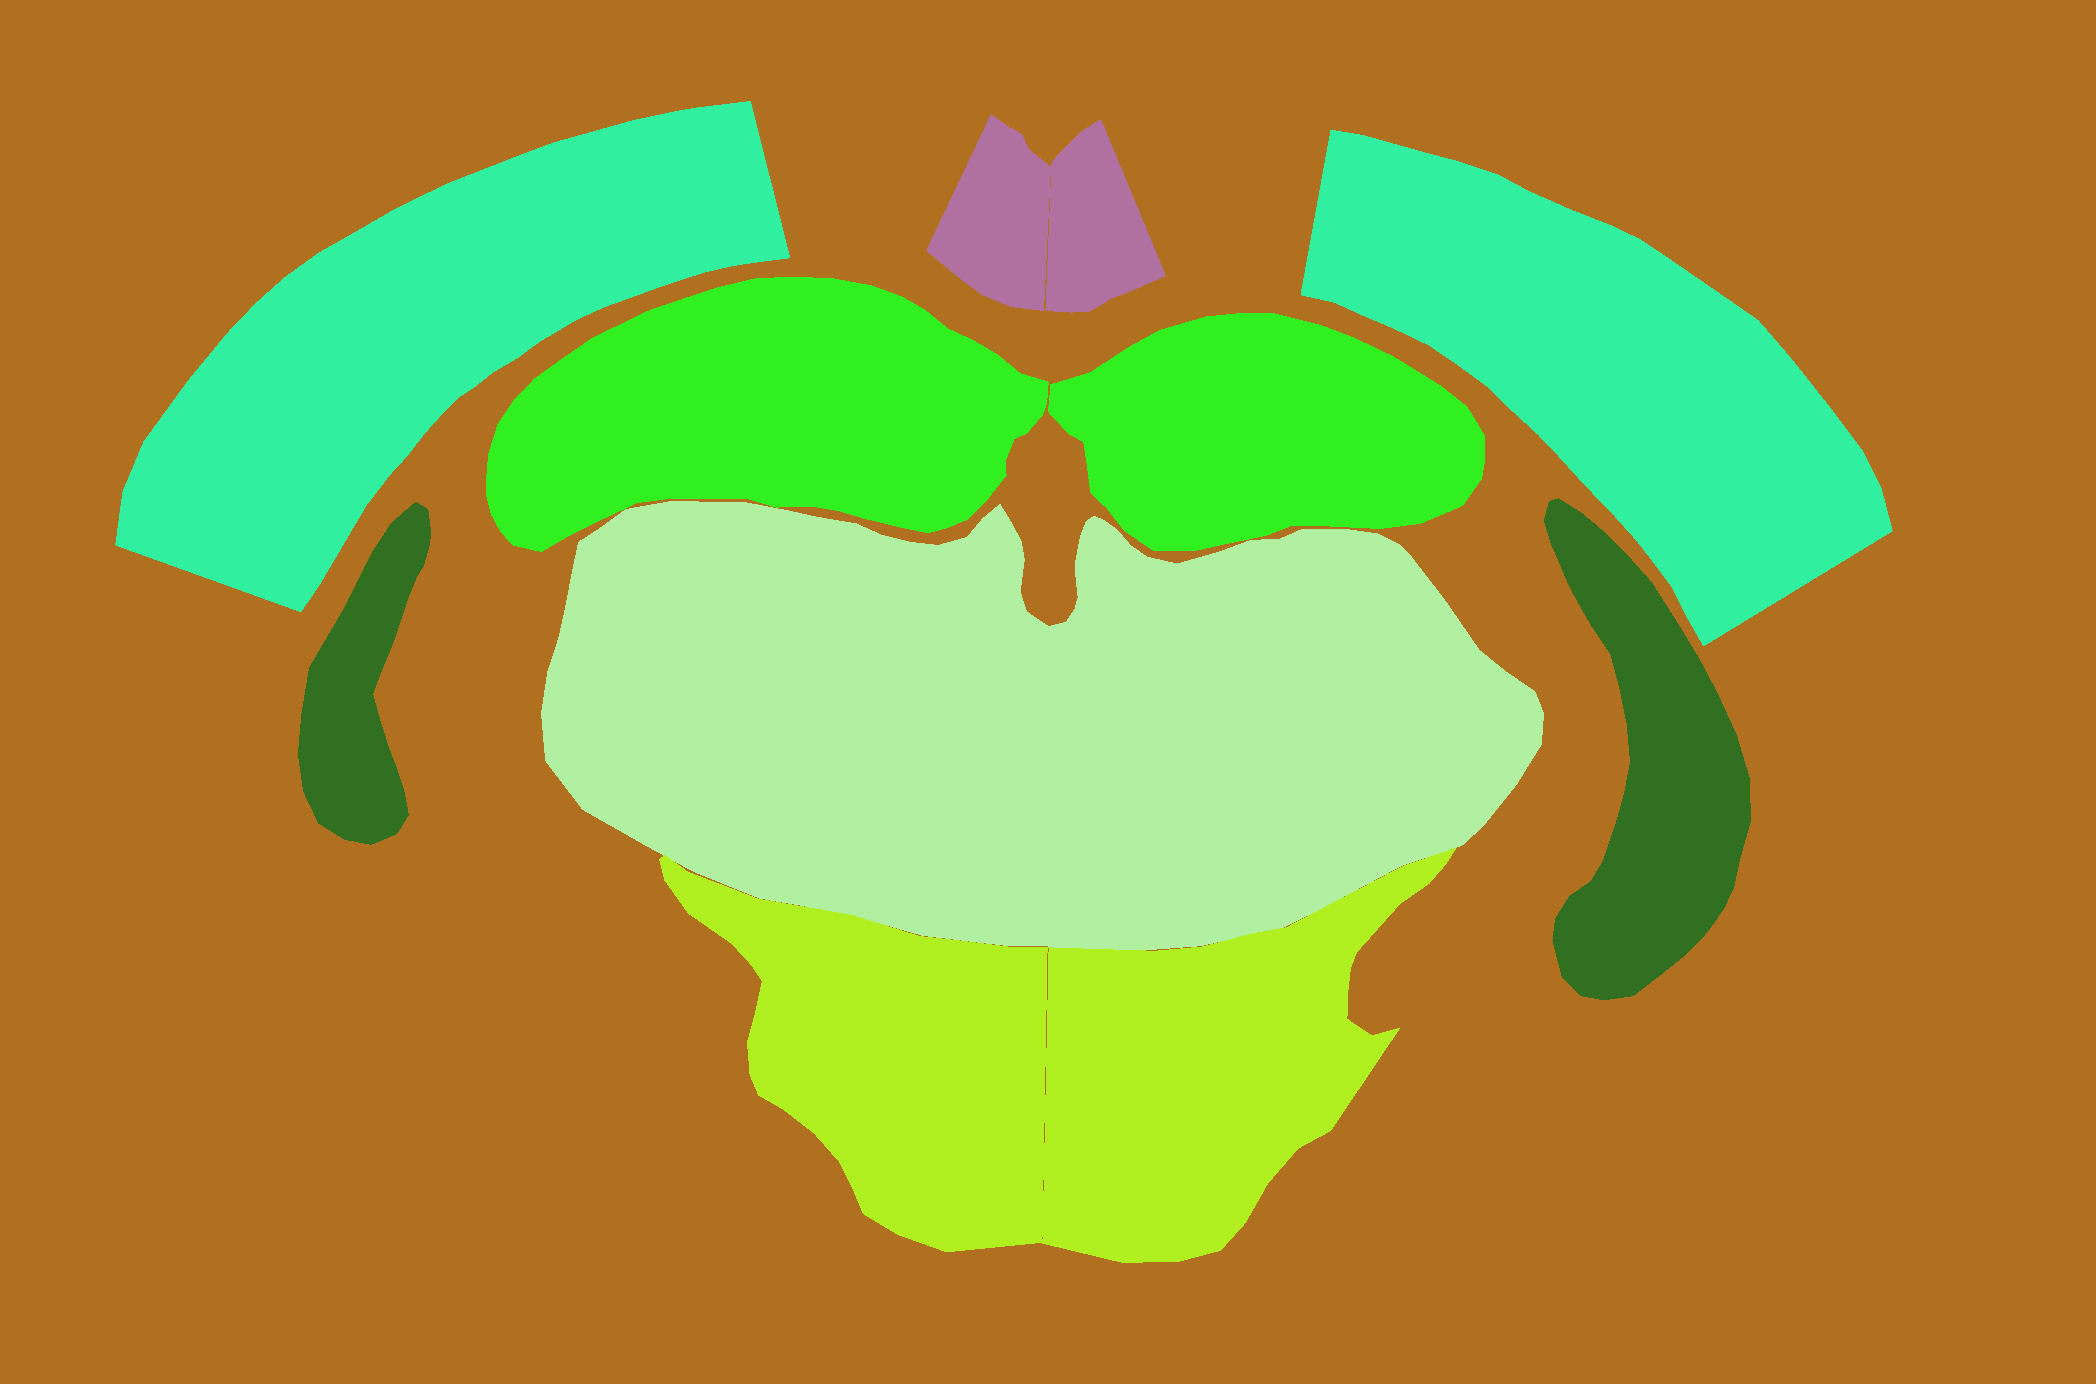Cerebral nuclei: (1545, 497, 1752, 999), (298, 502, 431, 845)
Hippocampal formation: (487, 276, 1047, 553), (1047, 314, 1484, 551)
Hypothalamus: (1043, 846, 1457, 1264), (660, 856, 1047, 1253)
Retrosplenial area: (927, 114, 1050, 310), (1046, 119, 1166, 314)
Somatosensory area: (114, 100, 789, 612), (1301, 130, 1892, 647)
Thalamus: (541, 500, 1049, 945), (1047, 516, 1545, 950)
